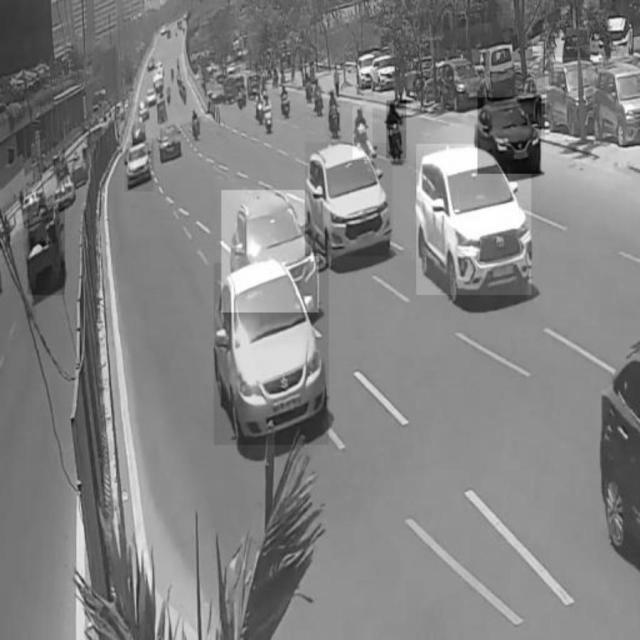vehicle: (214, 263, 328, 445), (416, 144, 530, 295), (221, 190, 319, 312), (305, 143, 393, 256), (477, 98, 541, 174), (545, 58, 596, 140), (594, 57, 640, 145), (27, 206, 65, 296), (125, 143, 153, 191), (386, 100, 406, 158), (353, 106, 373, 160), (325, 85, 341, 141)
